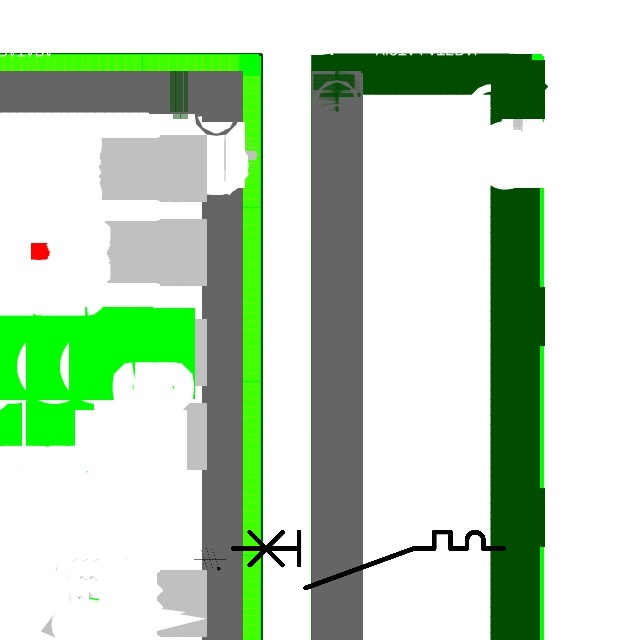interruptor_termomagnetico: (226, 525, 511, 594)
